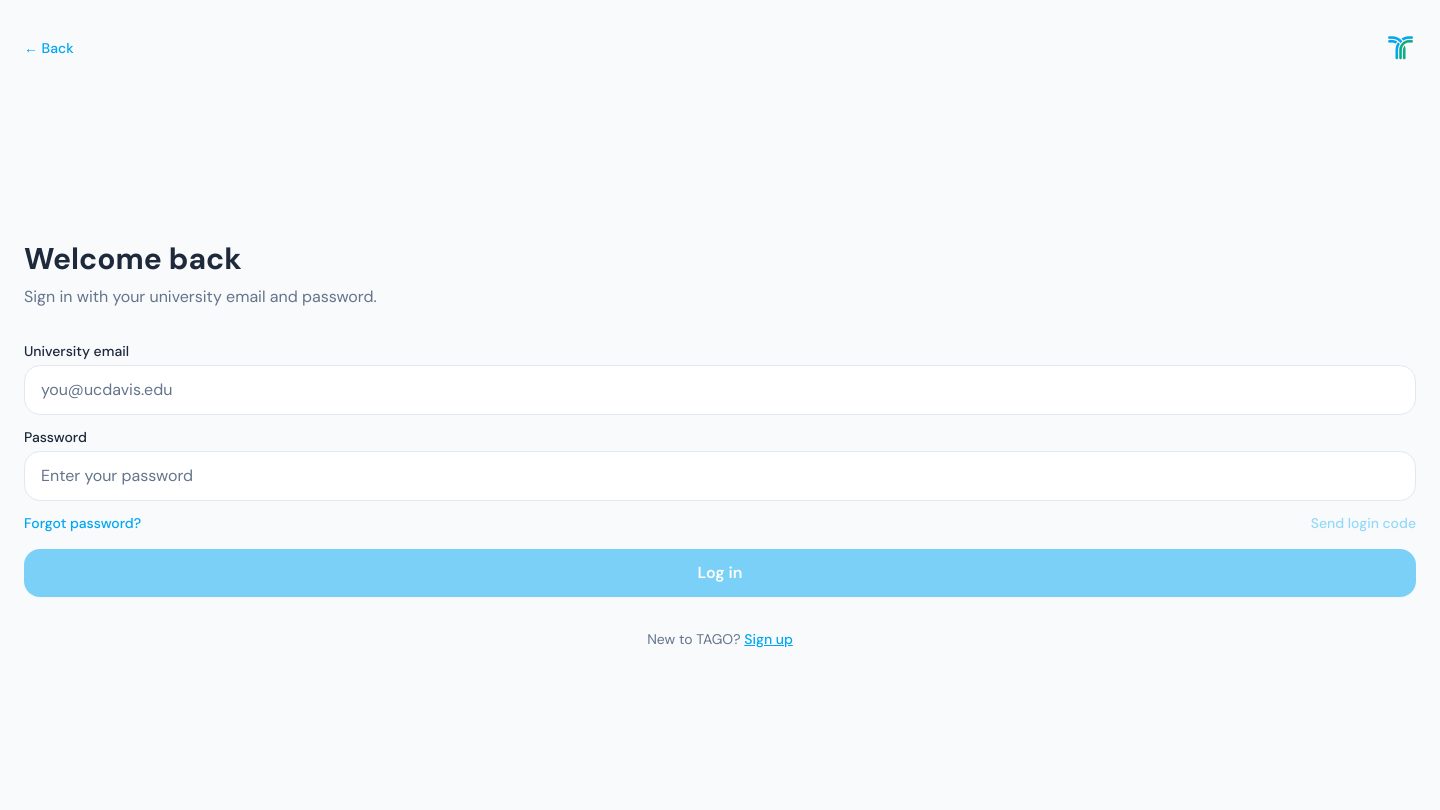
Test case: Login screen › shows the raw server error message for other auth errors
Type "maya@ucdavis.edu" into the field with test id "email-input". click: (720, 390)
box: [24,365,1416,415]
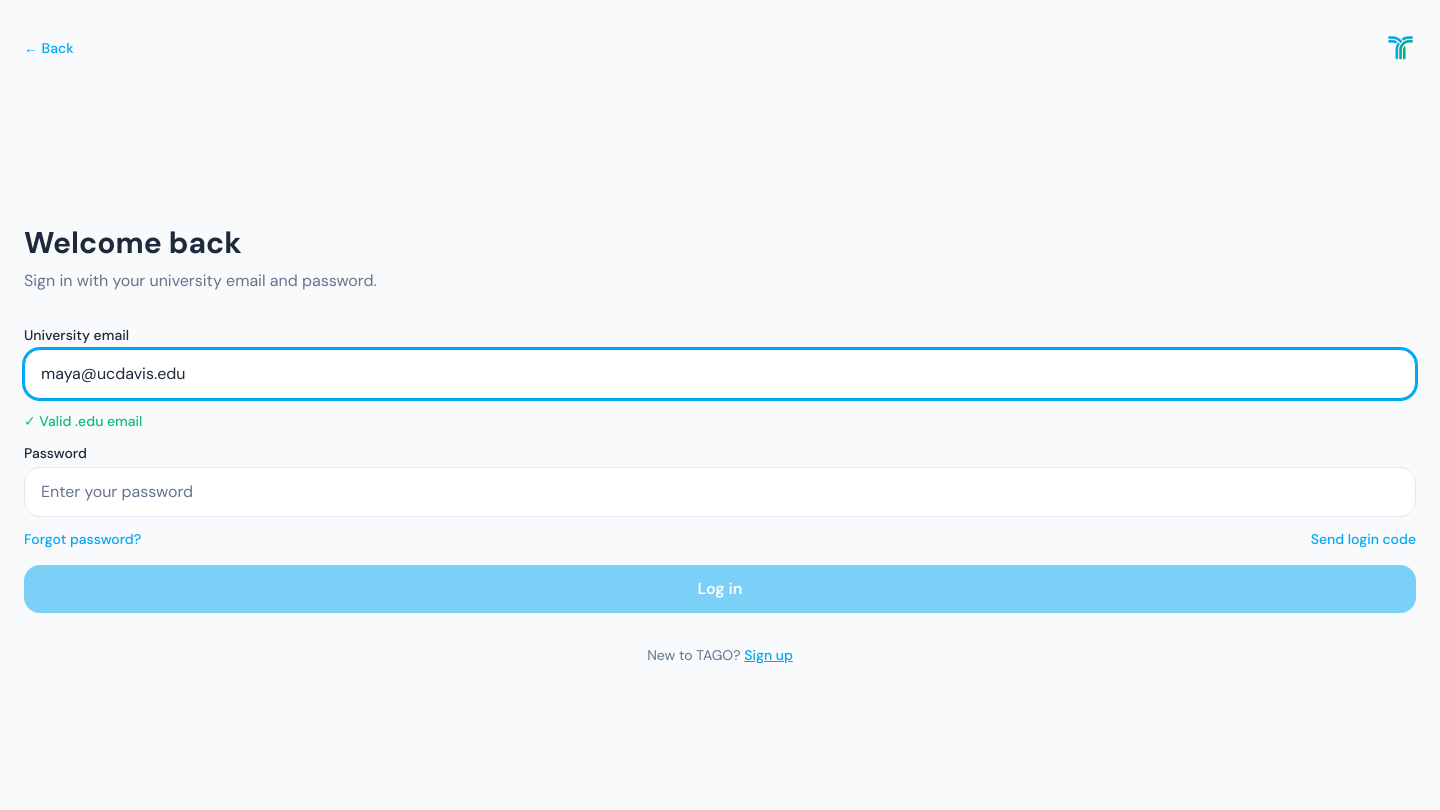
Type "secret123" into the password field with test id "password-input". click: (720, 492)
box: [24,467,1416,517]
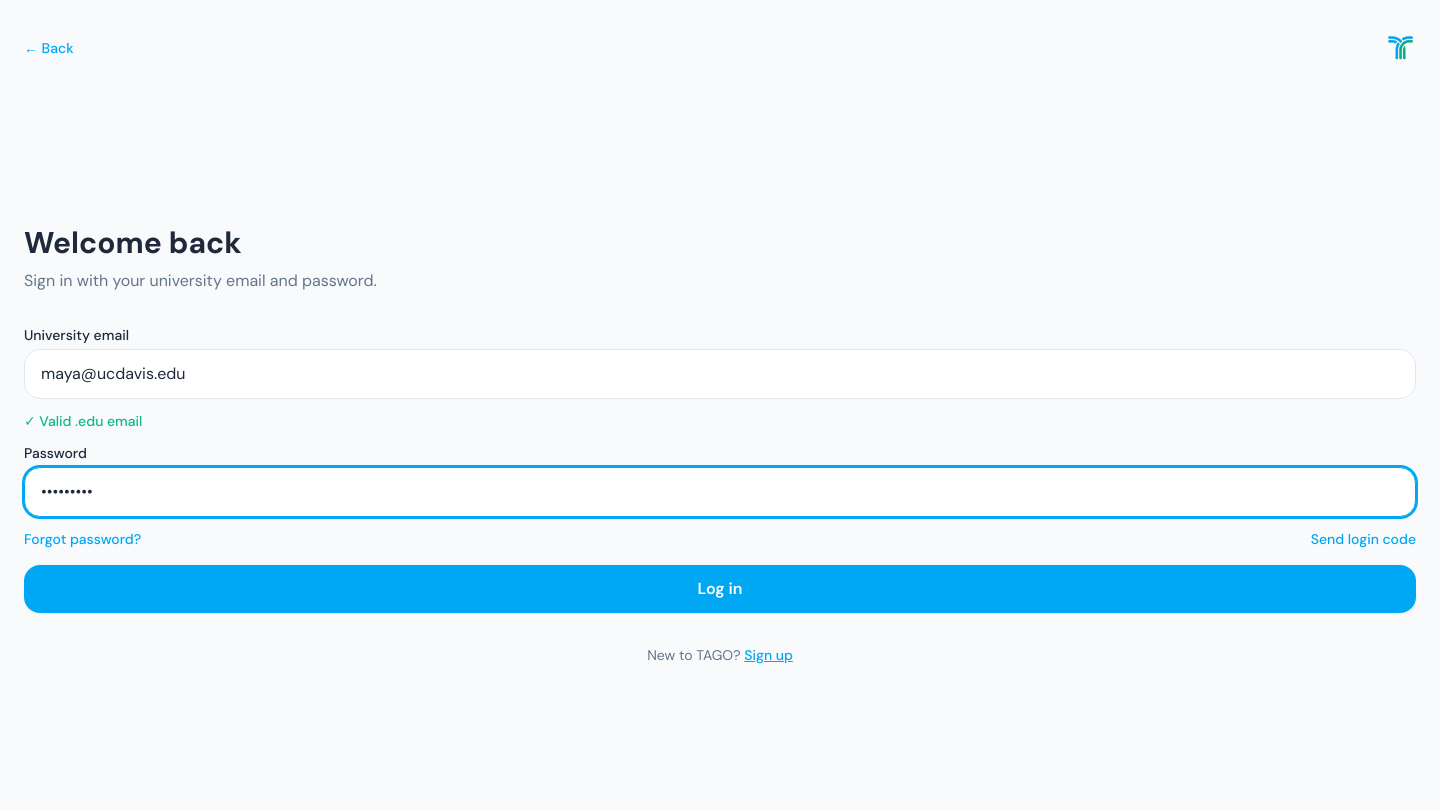
Click the button with test id "submit-button". click: (720, 589)
box: [24,565,1416,613]
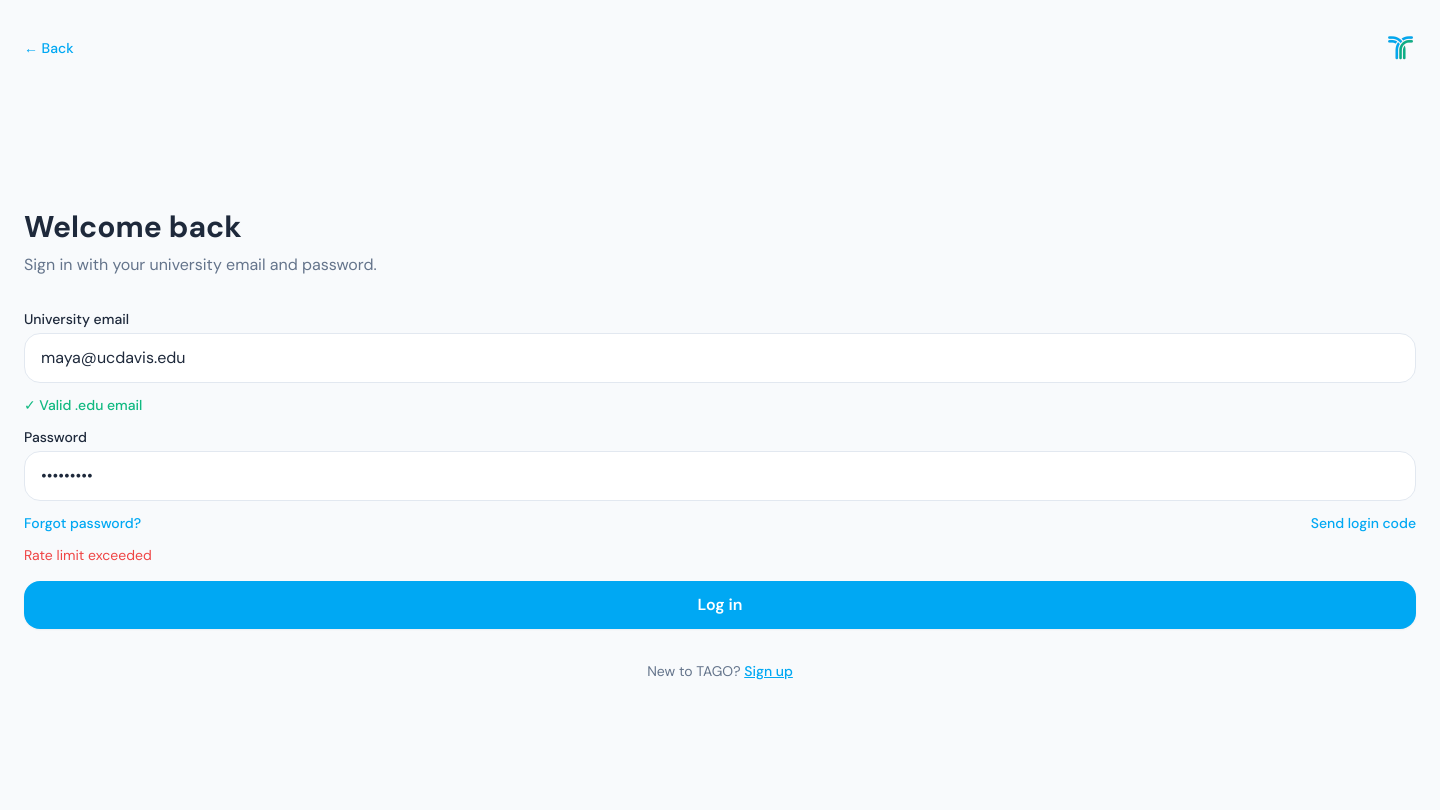
Now the message with test id "server-error" reads "Rate limit exceeded", box [24,546,152,564]
